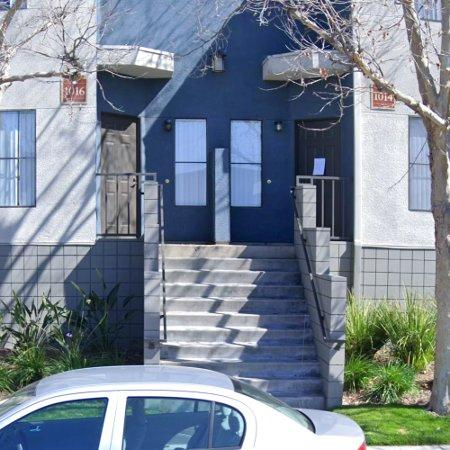stairs: (161, 245, 326, 410)
